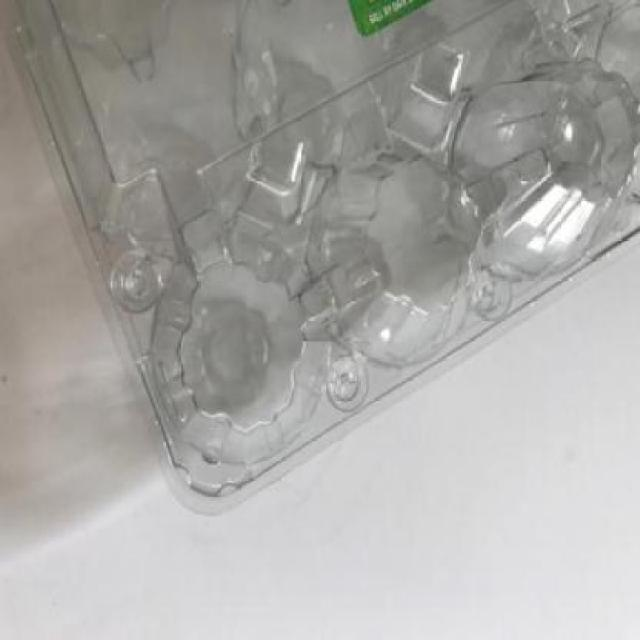PLASTIC: (1, 2, 638, 520)
